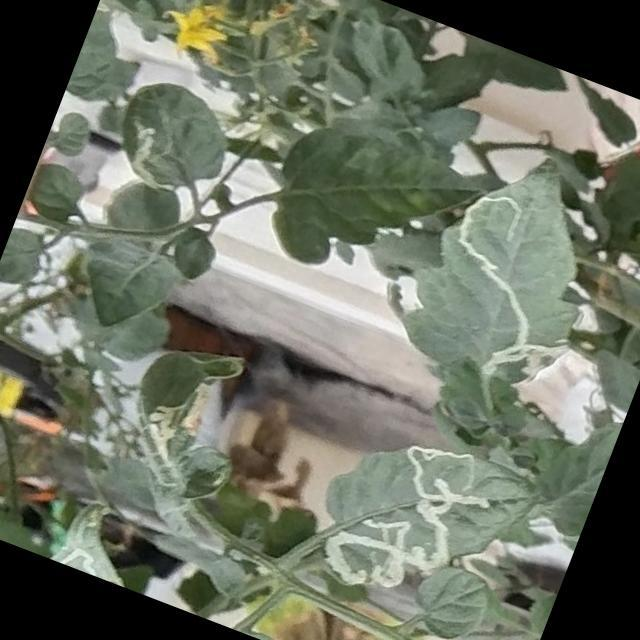Tomato target spot leaf: (388, 131, 627, 409), (297, 407, 548, 640), (93, 326, 271, 548), (101, 68, 246, 210), (49, 495, 150, 588)
